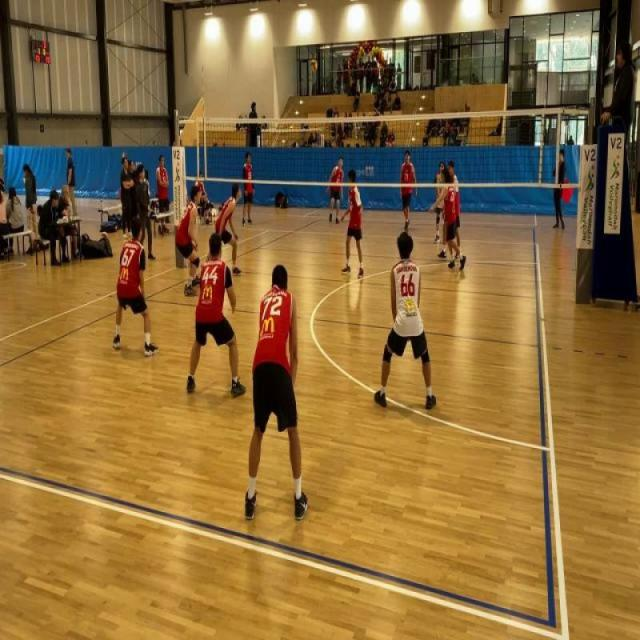volleyball: (310, 58, 318, 73), (101, 230, 108, 238)
